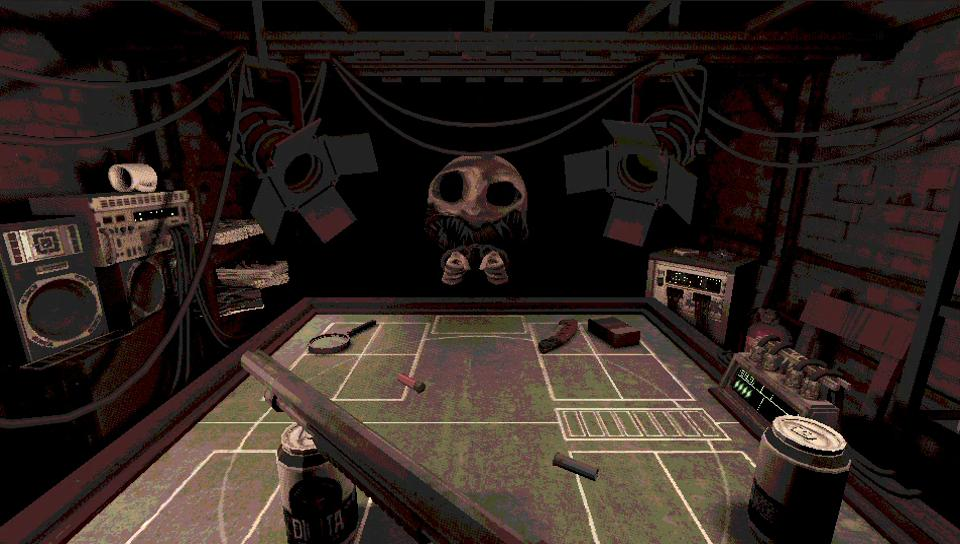ally: (51, 424, 907, 543)
can: (747, 414, 850, 543), (276, 424, 357, 543)
cigar: (587, 316, 639, 348)
doubledamage: (541, 315, 578, 353)
emptyspace: (127, 447, 274, 543), (573, 450, 709, 543), (599, 353, 693, 399), (539, 356, 625, 402), (339, 354, 413, 398), (292, 350, 356, 393), (364, 321, 425, 352)
enemyspace: (205, 306, 744, 423)
lens: (307, 318, 377, 352)
